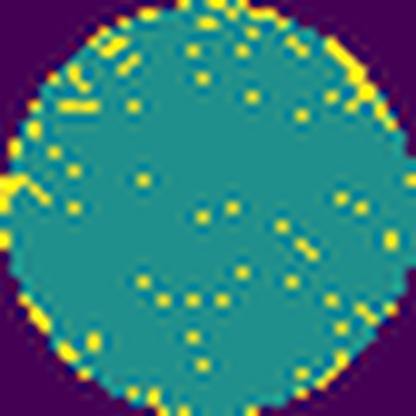Edge-Loc: (324, 35, 406, 132), (0, 160, 57, 222)
